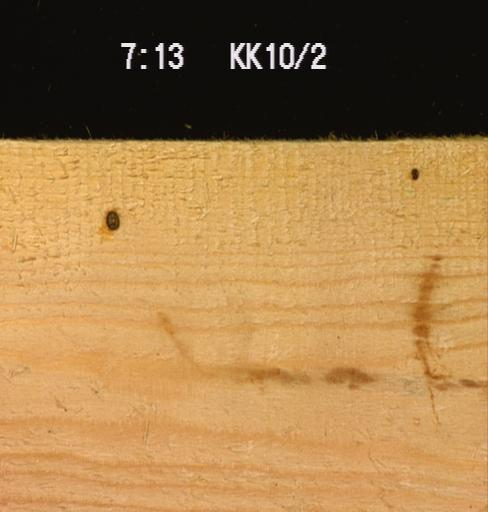dry_knot: (104, 208, 120, 231), (408, 166, 419, 181)
